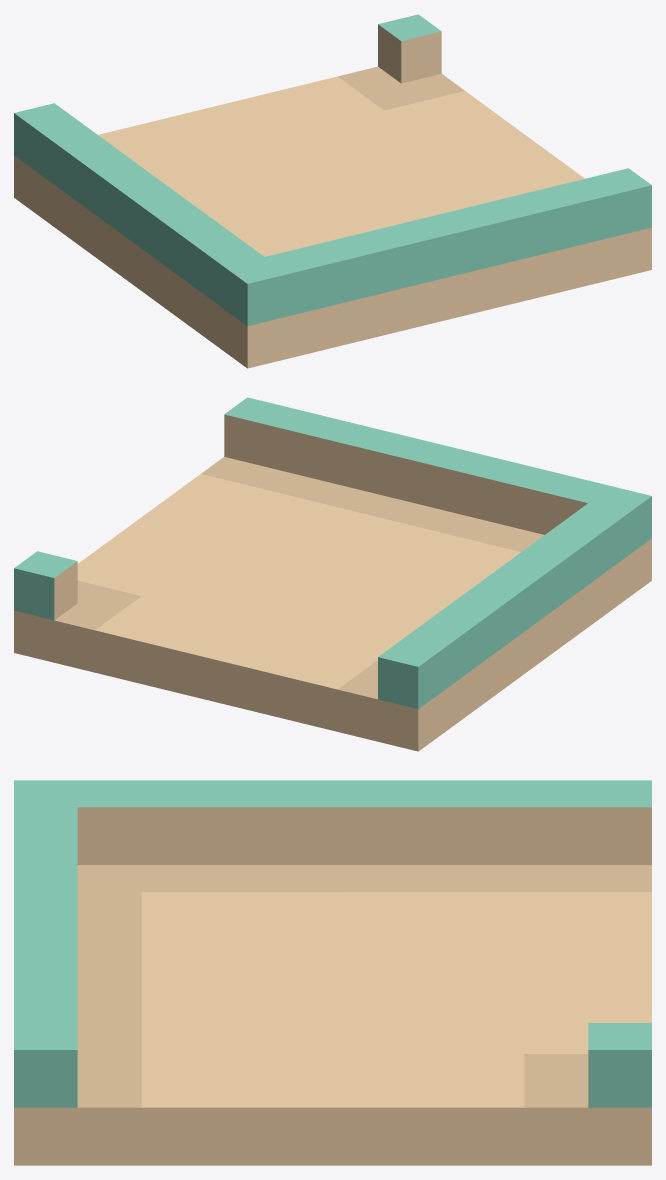
File: Way_Corner.fbx
3 views of the same model, one above another, from view 1: azimuth 30°, elevation 25°; view 2: azimuth 150°, elevation 25°; view 3: azimuth 270°, elevation 25° (orthographic). The views are drawn at different scales.
Parts seen in each view (by area): view 1: Way_Corner; view 2: Way_Corner; view 3: Way_Corner.
Part boxes in pixels (x1,y1,x2,y2): Way_Corner: (14, 14, 651, 368); Way_Corner: (14, 397, 651, 751); Way_Corner: (14, 780, 651, 1165).
Bounding box in the file's own units: 1 × 0.2 × 1.
